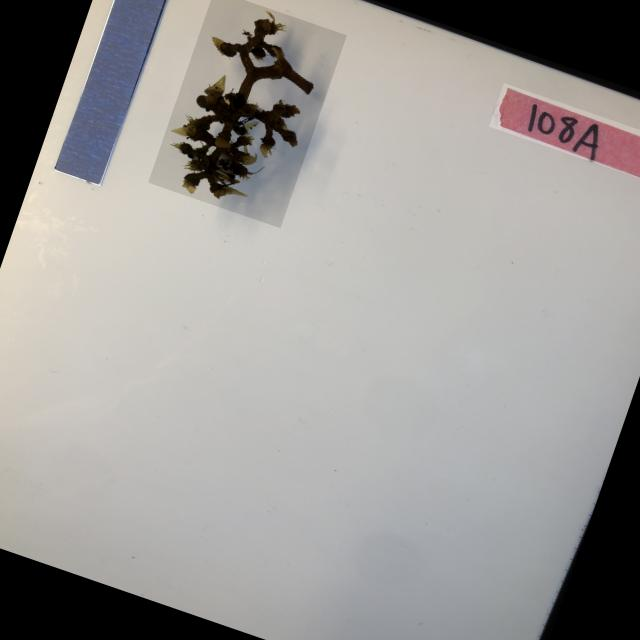index: (488, 83, 640, 197)
measure_label: (55, 0, 181, 186)
rachis_cluster: (147, 0, 346, 228)
